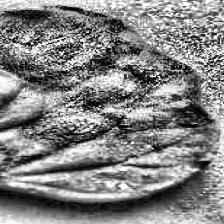disease: (0, 4, 222, 204)
